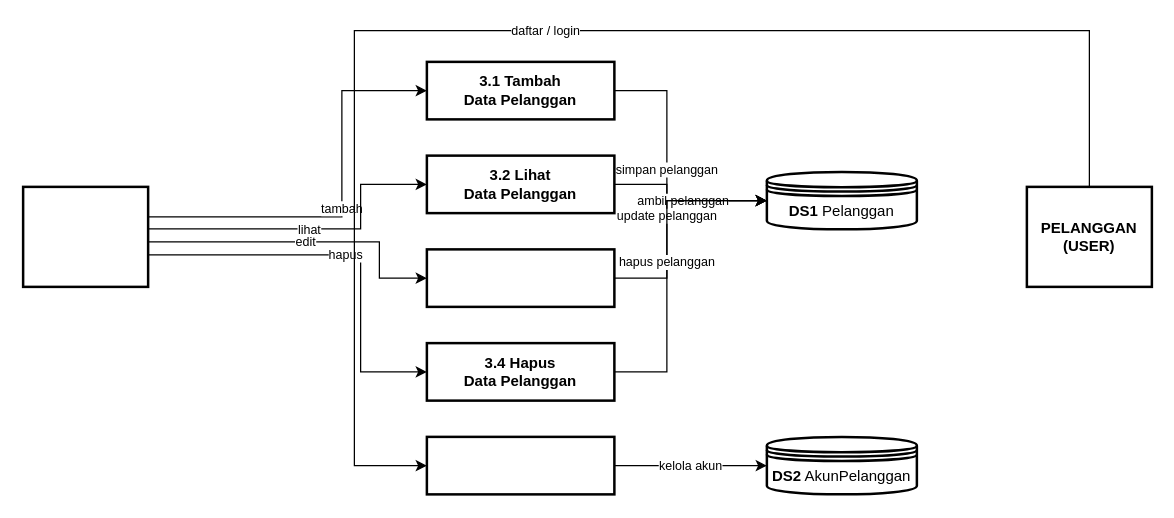
Image size: 1174x518. Some labels were removed from this diagram. Each missing label, with the centre of its shape:
3.3 Edit Data Pelanggan: (x=520, y=278)
3.5 Kelola Akun Pelanggan: (x=520, y=465)
ADMIN: (x=85, y=236)
